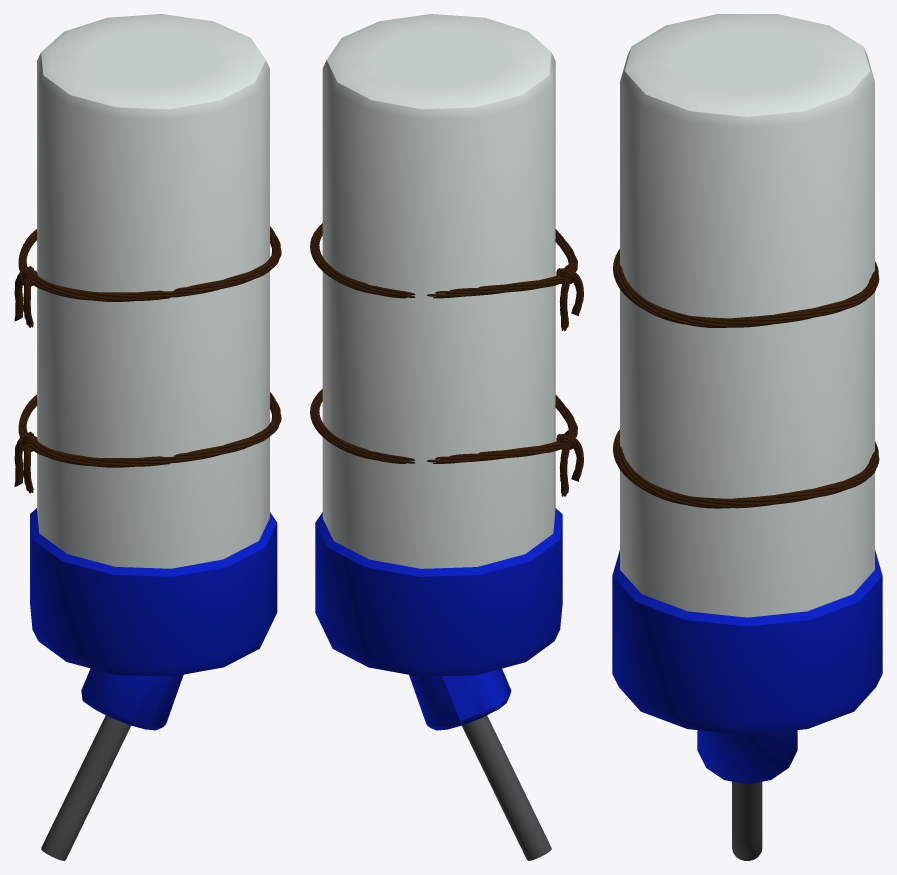
The model's file is BottleModel - Copy.FBX.
3 views of the same model, side by side, from view 1: azimuth 30°, elevation 25°; view 2: azimuth 150°, elevation 25°; view 3: azimuth 270°, elevation 25° (orthographic). The views are drawn at different scales.
Visible parts, largest first — view 1: ChamferCyl001, Loft001, Loft002; view 2: ChamferCyl001, Loft002, Loft001; view 3: ChamferCyl001, Loft002, Loft001.
Part boxes in pixels (x1,y1,x2,y2): ChamferCyl001: [30, 14, 277, 860]; Loft001: [14, 226, 281, 327]; Loft002: [14, 392, 281, 493]; ChamferCyl001: [315, 14, 562, 860]; Loft002: [310, 389, 583, 496]; Loft001: [310, 223, 583, 330]; ChamferCyl001: [612, 14, 882, 860]; Loft002: [613, 429, 879, 508]; Loft001: [613, 249, 879, 327].
Size of the model in its own units: 14.19 by 42.94 by 12.41.
